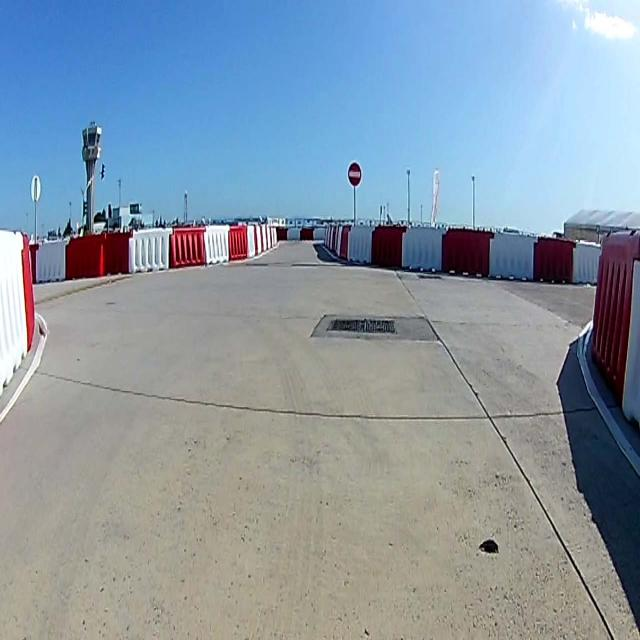girisyok: (348, 162, 361, 186)
